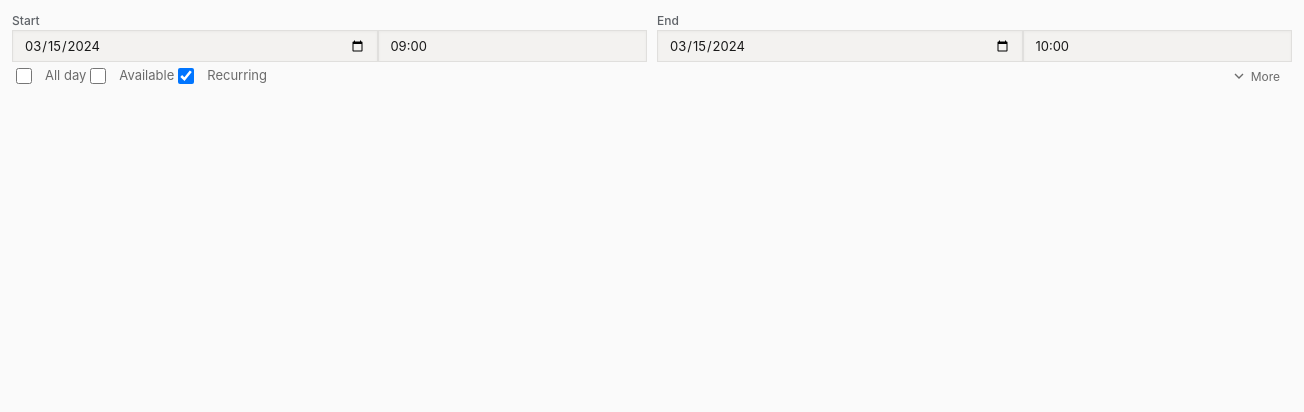
Scenario: EventFormFields › MonthlyPatternPicker › shows nthWeekday selectors when byWeekday and byDayOrdinals are provided
Click the button "More" at (1255, 76), box left=1219, top=62, right=1292, bottom=90
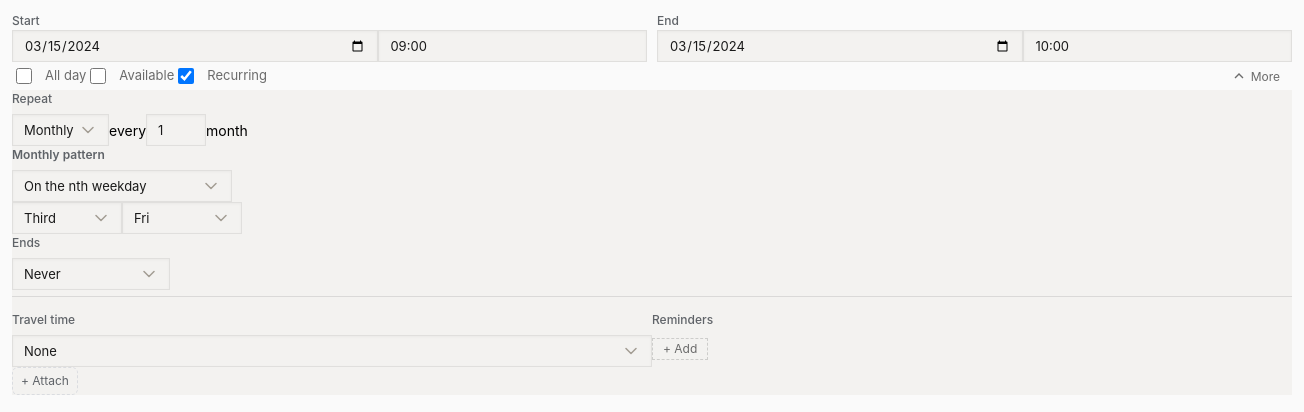
Expected: the dropdown showing "On the nth weekday" is shown, left=12, top=170, right=232, bottom=202
Expected: the dropdown showing "Third" is shown, left=12, top=202, right=122, bottom=234
Expected: the dropdown showing "Fri" is shown, left=122, top=202, right=242, bottom=234
